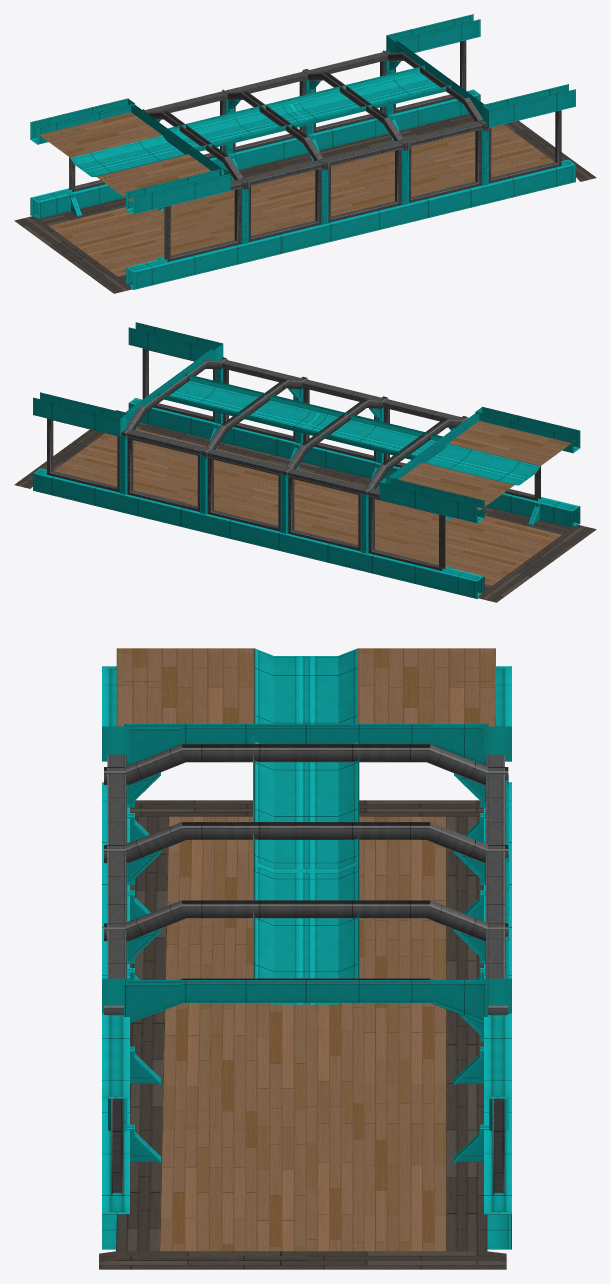
The model's file is Tunnel_Structure_02.fbx.
The picture shows the model from 3 angles, top to bottom: view 1: azimuth 30°, elevation 25°; view 2: azimuth 150°, elevation 25°; view 3: azimuth 270°, elevation 25°; orthographic projection. The views are drawn at different scales.
Parts seen in each view (by area): view 1: Tunnel_Structure_02; view 2: Tunnel_Structure_02; view 3: Tunnel_Structure_02.
Boxes of the visible parts, bbox=[...] form: Tunnel_Structure_02: bbox=[14, 14, 596, 293]; Tunnel_Structure_02: bbox=[14, 322, 596, 602]; Tunnel_Structure_02: bbox=[99, 648, 511, 1269].
Bounding box in the file's own units: 3127 × 579 × 1163.
